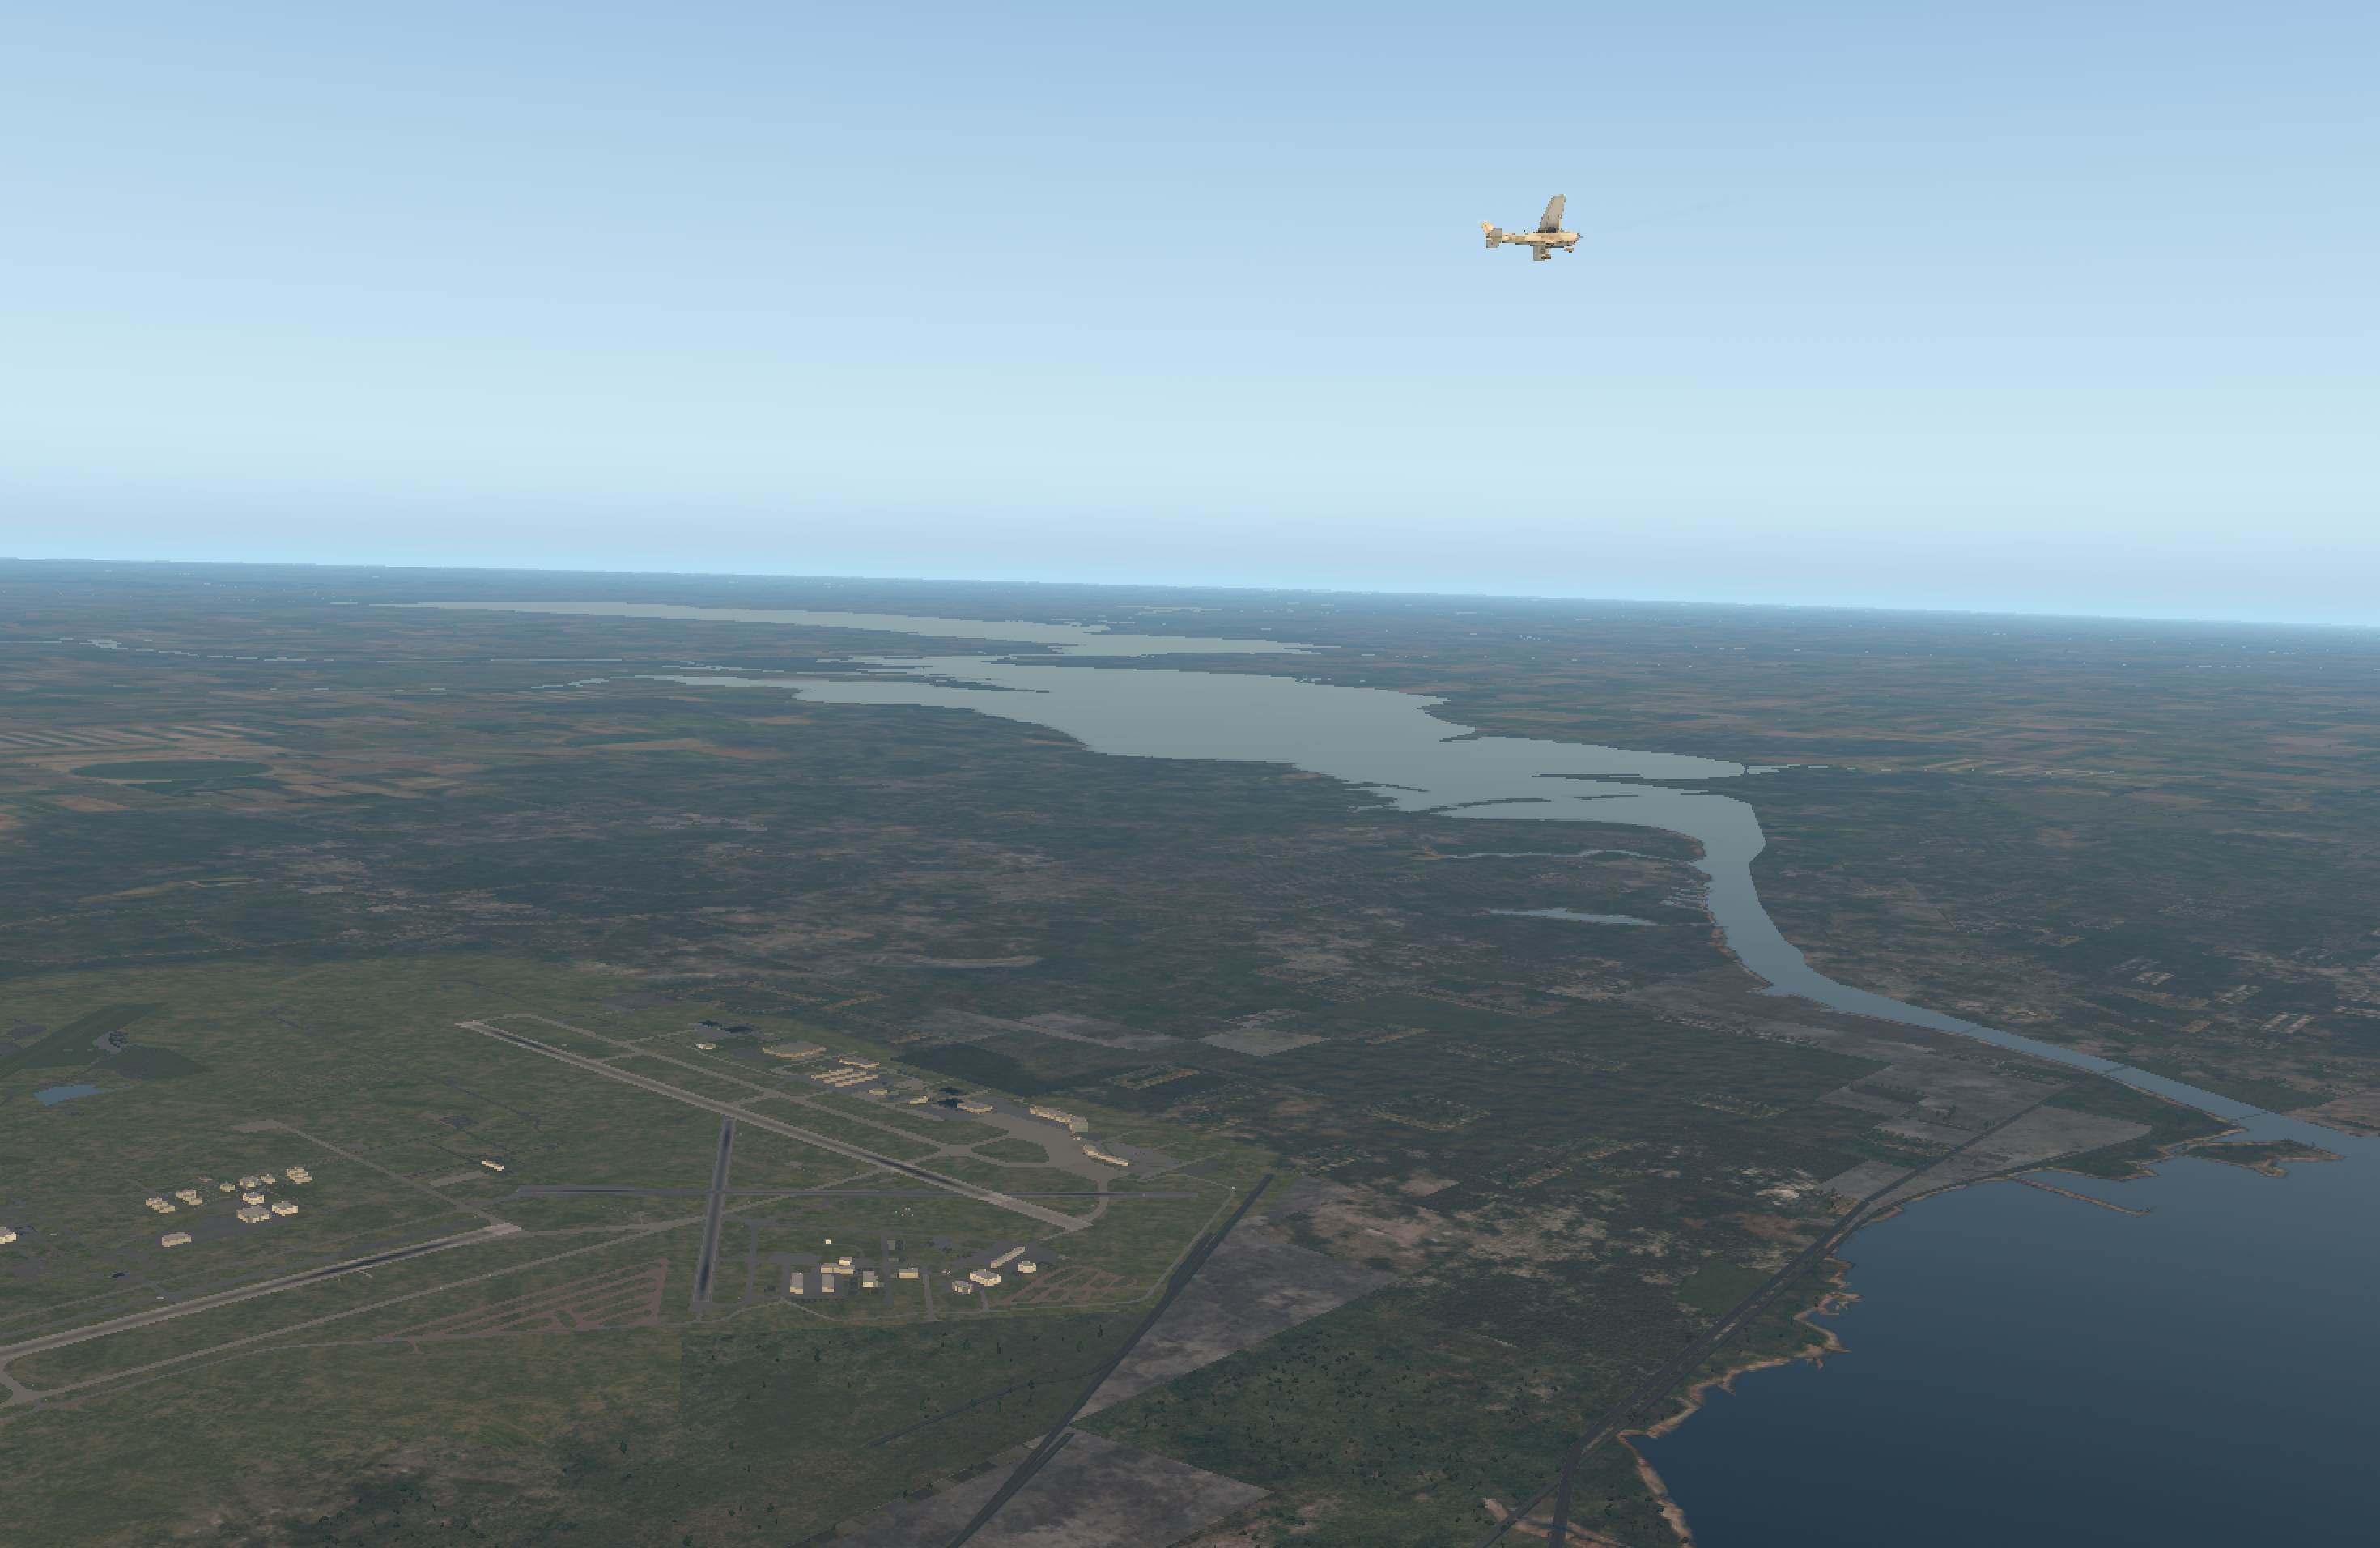aircraft: (1506, 219, 1599, 255)
